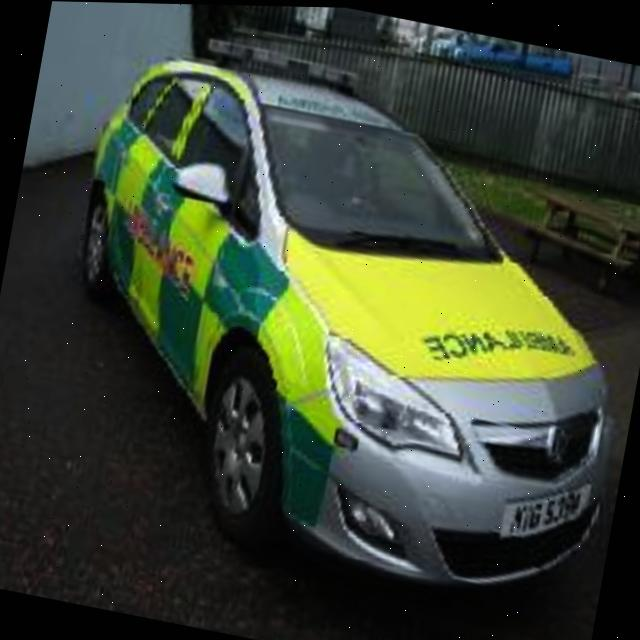emergency: (27, 15, 640, 622)
